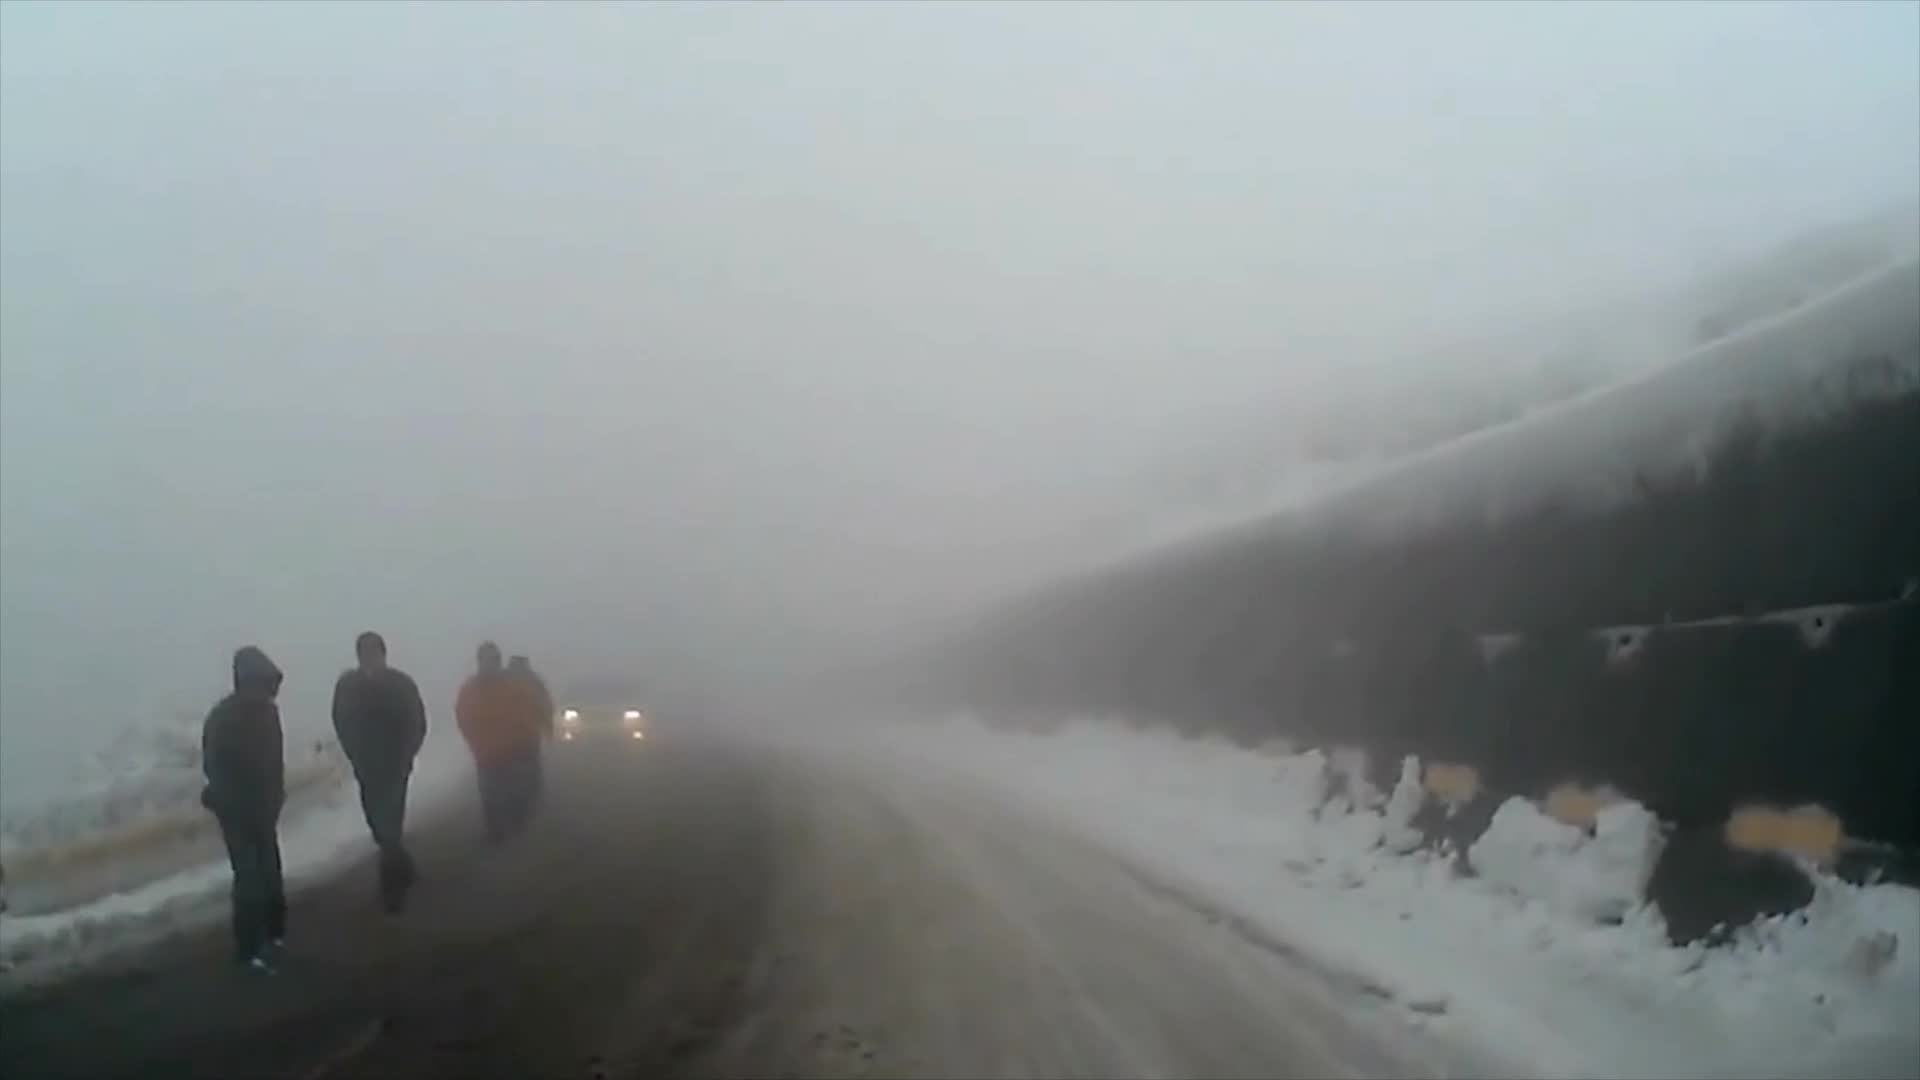pedestrian: (197, 644, 296, 971), (330, 629, 431, 918), (453, 639, 549, 852)
vehicle: (554, 676, 651, 762)
